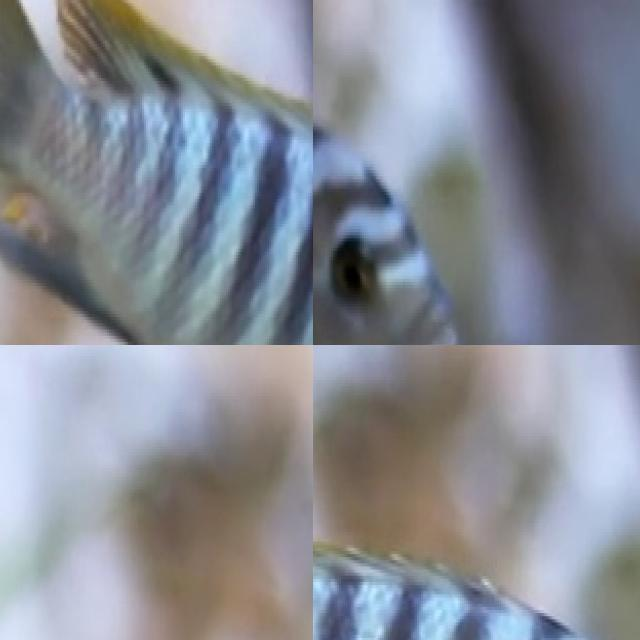fish: (0, 0, 313, 345), (313, 461, 640, 640)
